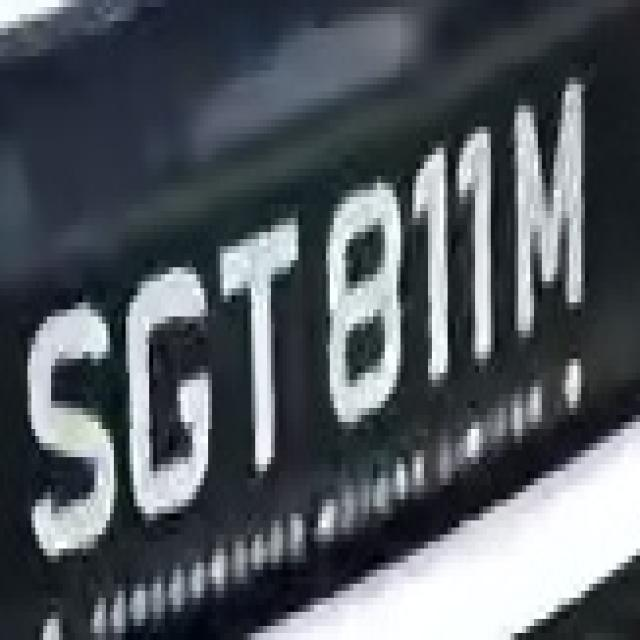1: (459, 98, 506, 387), (416, 112, 459, 401)
8: (314, 155, 408, 443)
G: (126, 239, 220, 521)
M: (506, 63, 600, 345)
S: (15, 288, 121, 584)
T: (204, 218, 306, 485)
